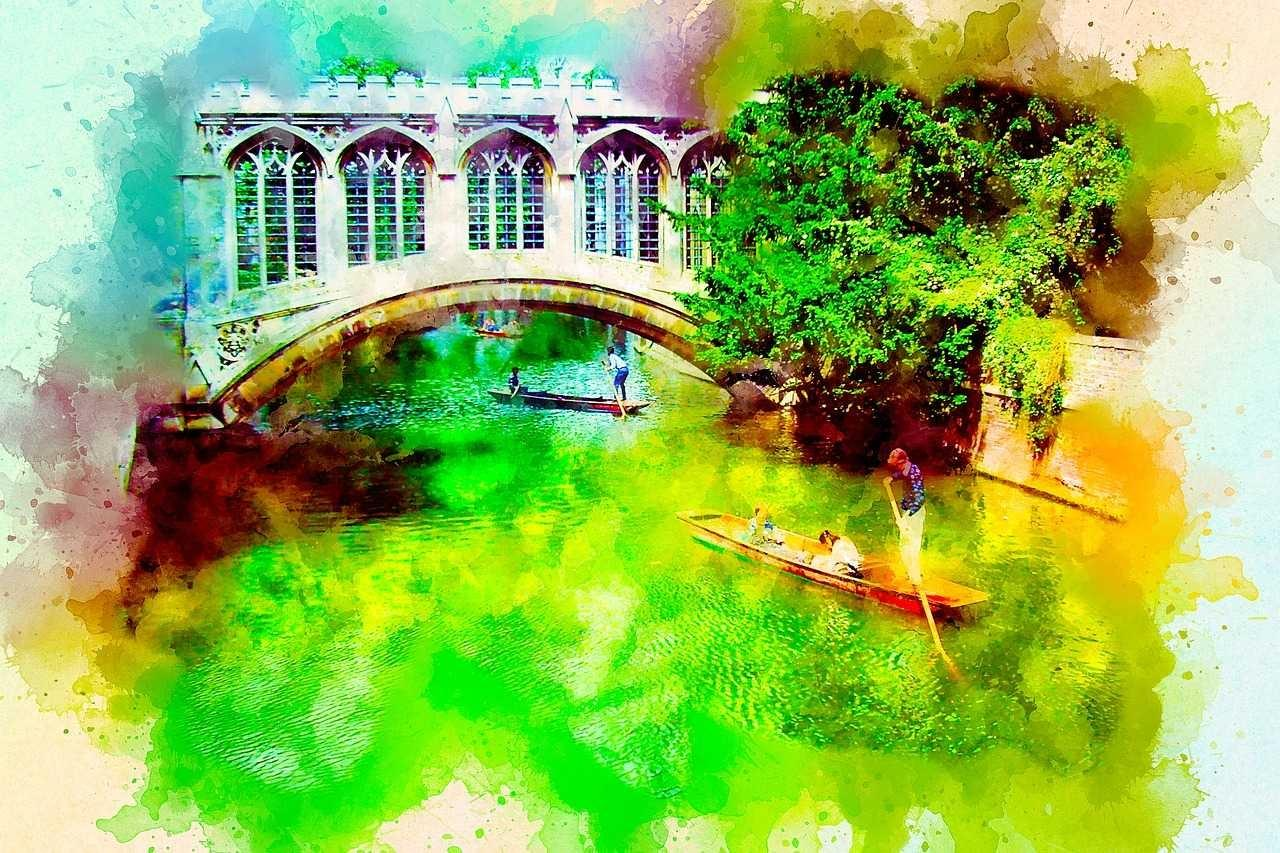kayak: (675, 506, 990, 623), (489, 386, 648, 414), (474, 326, 510, 338)
